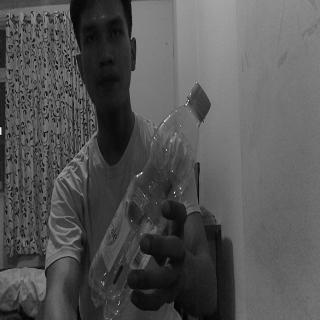plastic_bottles: (88, 84, 210, 320)
